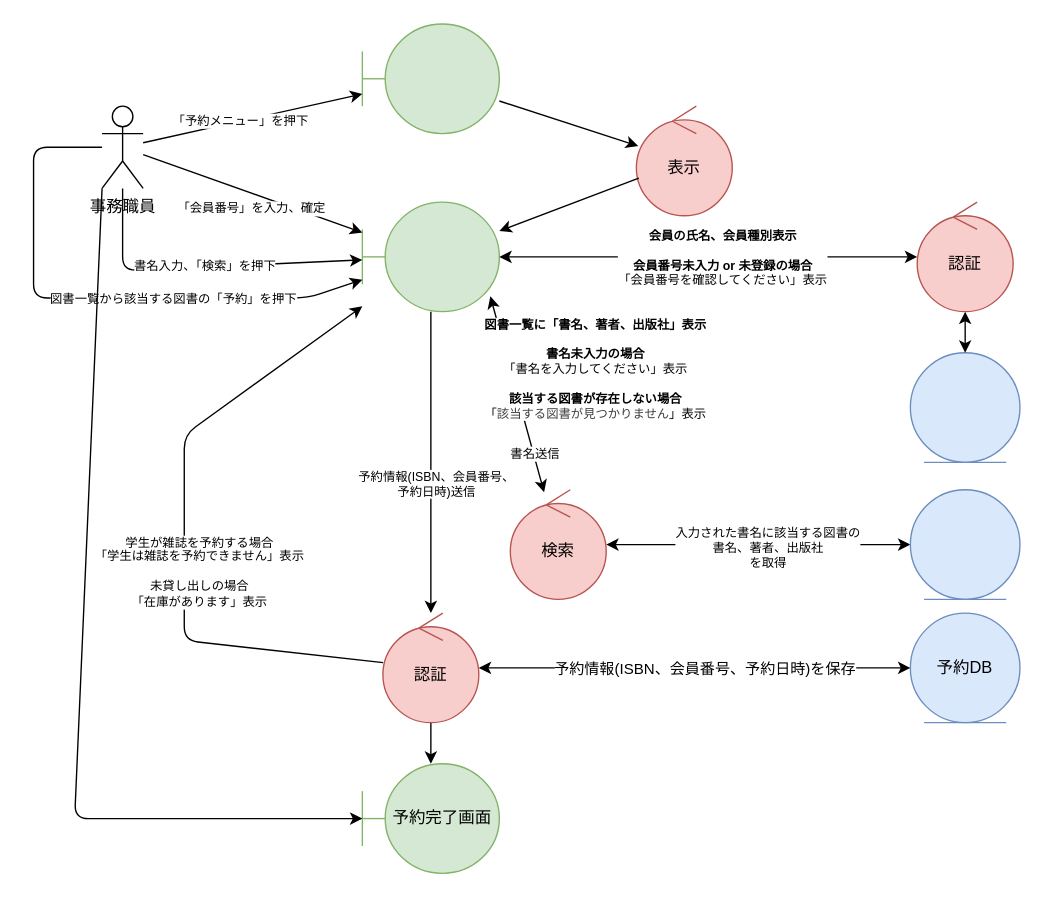
This 1044x897 diagram has some shape labels left out. Here are the shapes that lost their labels. From the top down, the centre of each, then its label:
At [430,78]: "メニュー画面".
At [430,256]: "図書予約画面".
At [964,406]: "会員DB".
At [964,543]: "図書DB".
